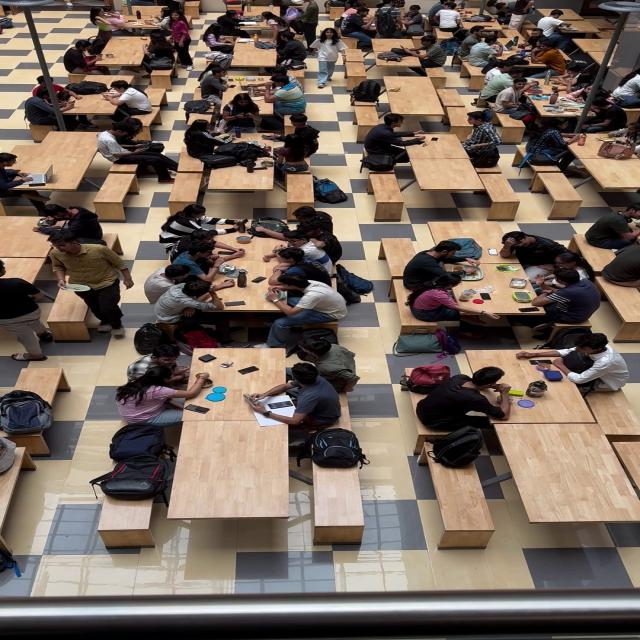Occupied: (458, 352, 598, 424), (195, 230, 302, 315), (178, 348, 290, 416), (123, 354, 225, 428), (247, 362, 342, 432), (518, 338, 629, 394), (4, 132, 109, 191), (415, 368, 508, 432), (271, 337, 360, 397), (95, 121, 175, 182), (402, 240, 480, 294), (410, 273, 498, 319), (57, 90, 142, 135), (158, 203, 242, 248), (532, 267, 602, 321), (267, 276, 348, 320), (151, 279, 231, 322), (384, 75, 446, 130), (521, 120, 582, 174), (267, 247, 335, 295), (24, 79, 84, 132), (363, 112, 428, 160), (499, 231, 572, 272), (0, 156, 52, 212), (168, 240, 238, 281), (36, 204, 105, 244), (0, 264, 47, 322), (521, 94, 585, 136), (526, 250, 592, 290), (265, 113, 321, 159), (183, 119, 241, 163), (97, 37, 149, 84), (224, 81, 286, 120), (585, 207, 638, 249), (368, 48, 428, 85), (0, 216, 59, 252), (102, 81, 152, 123), (461, 110, 502, 160), (579, 96, 629, 134), (261, 74, 306, 115), (63, 39, 109, 77), (396, 35, 447, 69), (494, 78, 538, 115), (522, 41, 568, 76), (338, 7, 376, 49), (230, 40, 278, 73), (160, 11, 192, 60), (143, 31, 179, 73), (536, 9, 575, 46), (89, 5, 129, 40), (198, 66, 231, 108), (608, 68, 640, 107), (273, 32, 307, 68), (602, 122, 640, 154), (558, 18, 612, 40), (292, 208, 334, 236), (203, 25, 237, 59), (505, 0, 538, 33), (294, 0, 319, 43), (458, 28, 492, 56), (431, 2, 462, 32), (400, 4, 428, 36), (216, 8, 249, 34), (260, 12, 294, 36), (314, 234, 342, 263), (120, 19, 164, 36)
Unoccupied: (496, 421, 640, 525), (165, 419, 291, 523), (95, 414, 178, 546), (309, 392, 365, 544), (419, 441, 495, 549), (570, 235, 639, 320), (557, 133, 640, 194), (460, 50, 557, 91), (96, 492, 156, 549), (0, 448, 30, 562), (412, 158, 488, 200), (426, 221, 514, 253), (207, 164, 276, 198), (92, 170, 140, 218), (533, 172, 585, 216), (588, 394, 640, 437), (10, 368, 67, 407), (472, 172, 520, 218), (288, 324, 341, 362), (573, 232, 618, 273), (609, 441, 640, 500), (368, 172, 406, 220), (65, 74, 140, 98), (46, 288, 92, 322), (167, 168, 205, 205), (570, 40, 614, 69), (112, 0, 196, 14), (285, 174, 314, 212), (437, 91, 468, 125), (238, 22, 281, 45), (352, 102, 380, 132), (431, 24, 467, 44), (132, 104, 162, 128), (344, 61, 368, 89), (149, 67, 173, 90), (549, 9, 585, 21), (183, 1, 201, 17), (328, 5, 346, 20)
